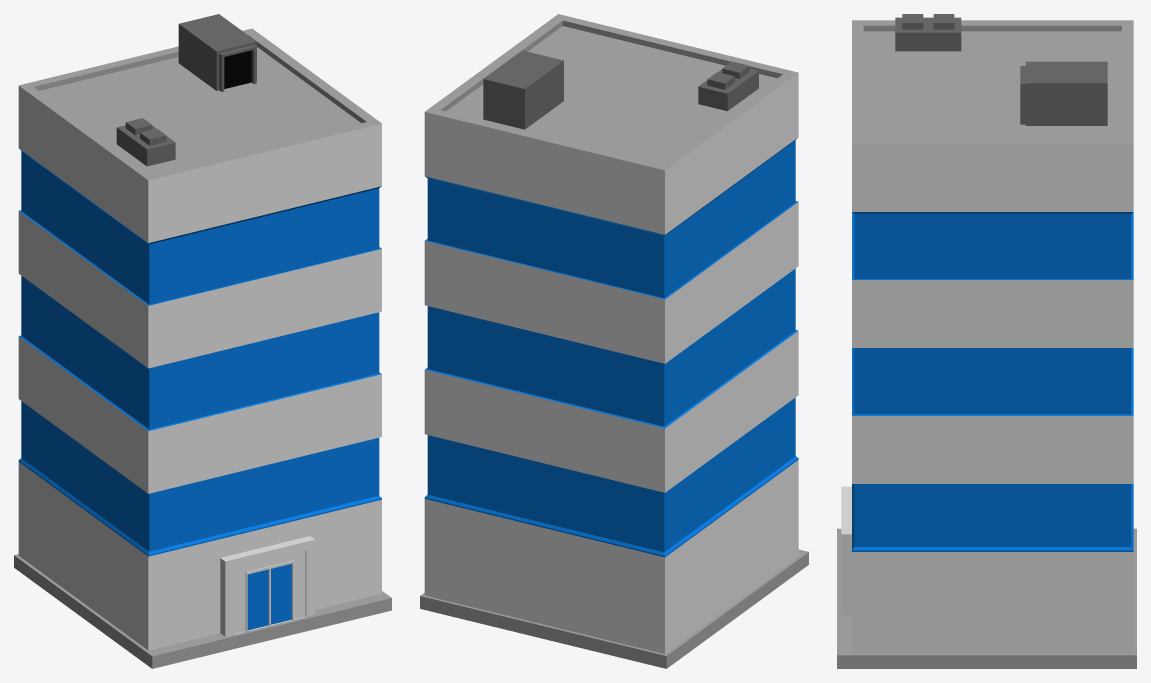
Rendered from Building two color.fbx.
3 views of the same model, side by side, from view 1: azimuth 30°, elevation 25°; view 2: azimuth 150°, elevation 25°; view 3: azimuth 270°, elevation 25° (orthographic). The views are drawn at different scales.
Parts seen in each view (by area): view 1: Building two color; view 2: Building two color; view 3: Building two color.
Part boxes in pixels (<box>): Building two color: <box>14,14,391,668</box>; Building two color: <box>420,14,808,668</box>; Building two color: <box>837,14,1136,668</box>.
Size of the model in its own units: 400 by 824 by 400.
